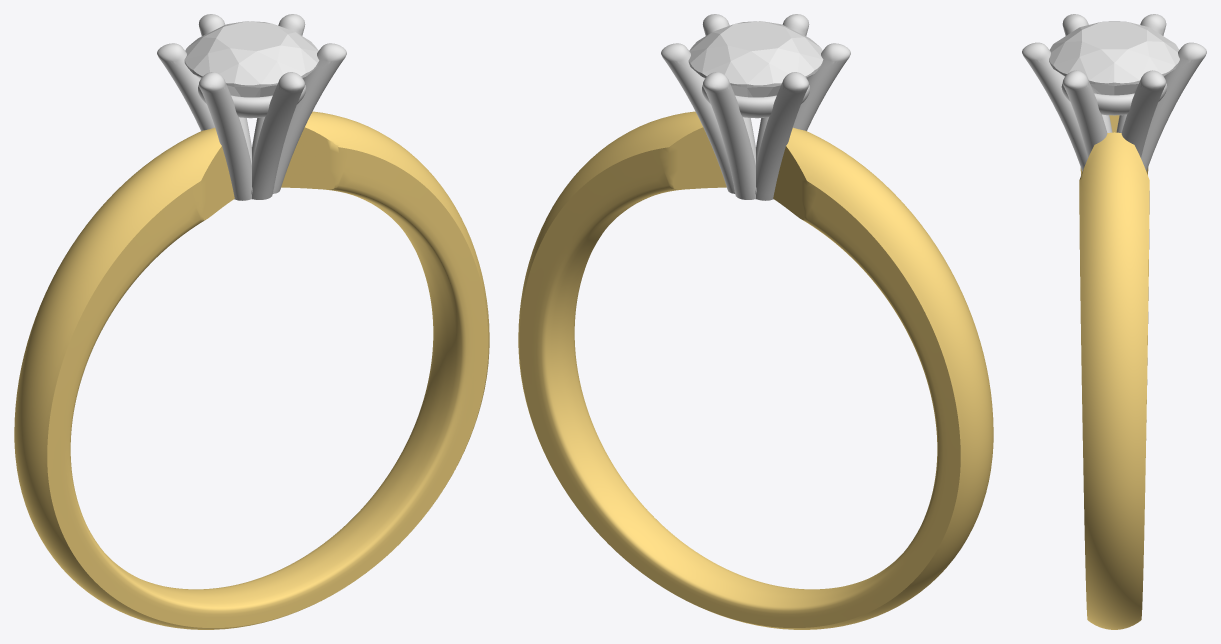
File: Derrick_F_PT_head_blender.glb
The picture shows the model from 3 angles, left to right: view 1: azimuth 30°, elevation 25°; view 2: azimuth 150°, elevation 25°; view 3: azimuth 270°, elevation 25°; orthographic projection. The views are drawn at different scales.
Visible parts, largest first — view 1: Derrick YG band for 3d model, Derrick PT head for 3d model, Derrick dia for 3d model; view 2: Derrick YG band for 3d model, Derrick PT head for 3d model, Derrick dia for 3d model; view 3: Derrick YG band for 3d model, Derrick PT head for 3d model, Derrick dia for 3d model.
Boxes of the visible parts, x1,y1,x2,y2 form: Derrick YG band for 3d model: (14,111,489,629); Derrick PT head for 3d model: (157,14,346,200); Derrick dia for 3d model: (184,21,319,97); Derrick YG band for 3d model: (518,111,993,629); Derrick PT head for 3d model: (661,14,850,200); Derrick dia for 3d model: (688,21,823,97); Derrick YG band for 3d model: (1079,115,1149,629); Derrick PT head for 3d model: (1022,14,1206,171); Derrick dia for 3d model: (1049,21,1179,95).
Bounding box in the file's own units: 20.71 × 24.94 × 7.35.
